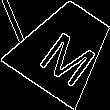M_NE: (29, 16, 98, 83)
